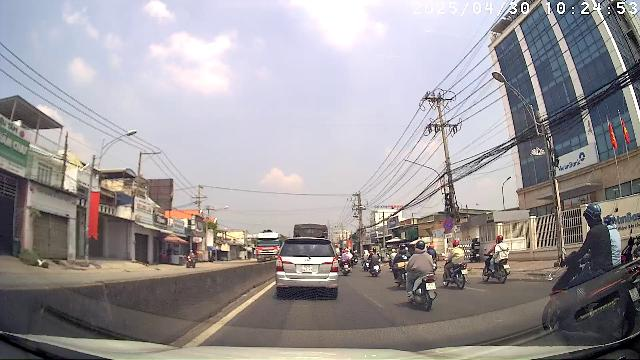130-cam-dung-va-do-xe: (444, 220, 454, 230)
